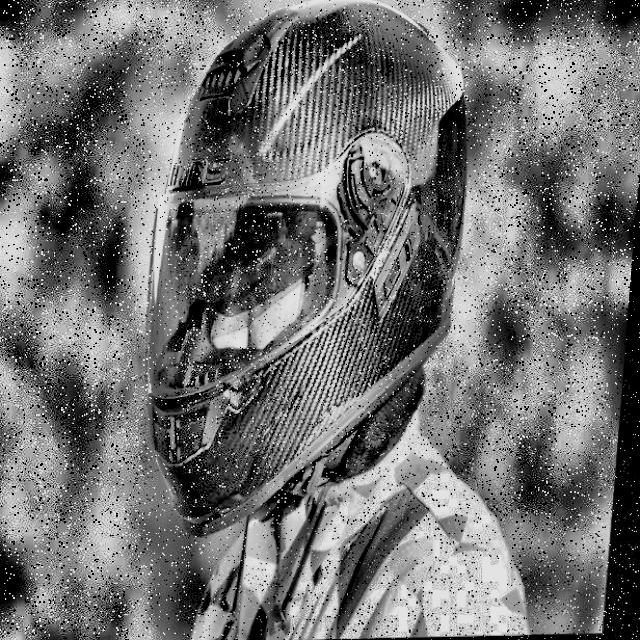Helmet: (125, 0, 492, 552)
